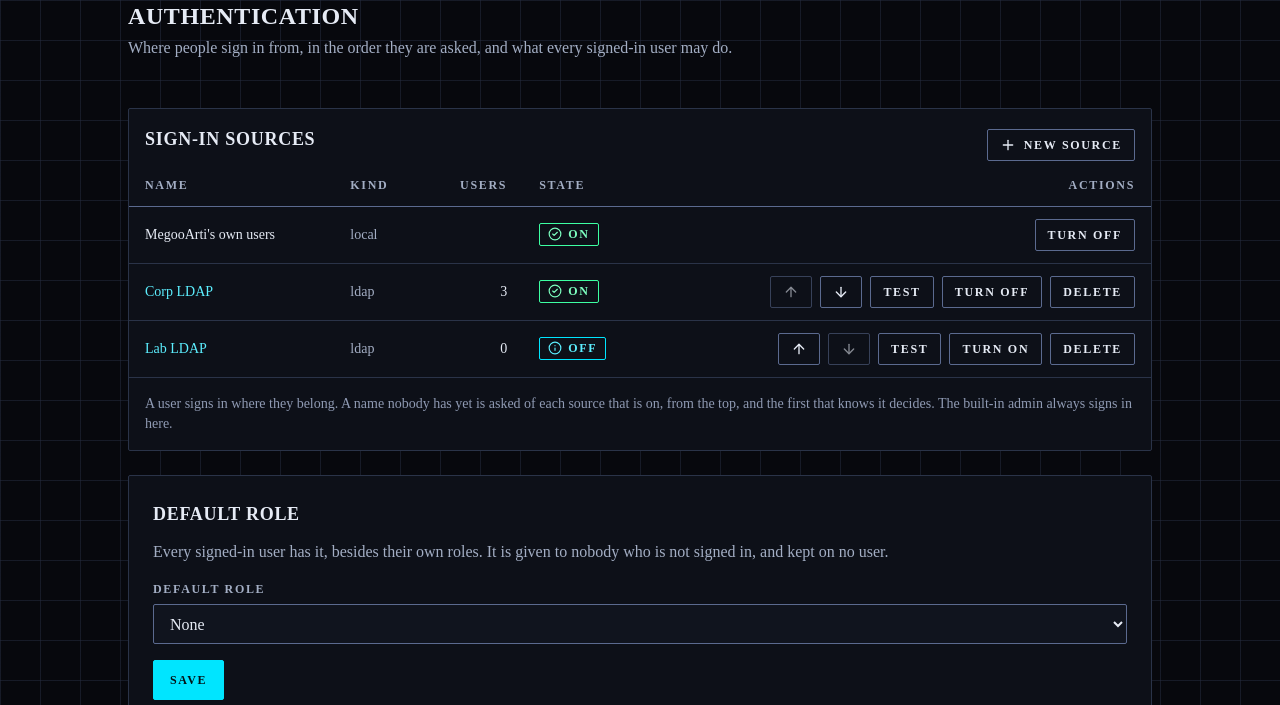
Test case: the sign-in sources (SEC-15) › say what the server refuses
The image size is (1280, 705).
Click the button named "Move Lab LDAP up" at point(799, 349), box [778, 333, 820, 365]
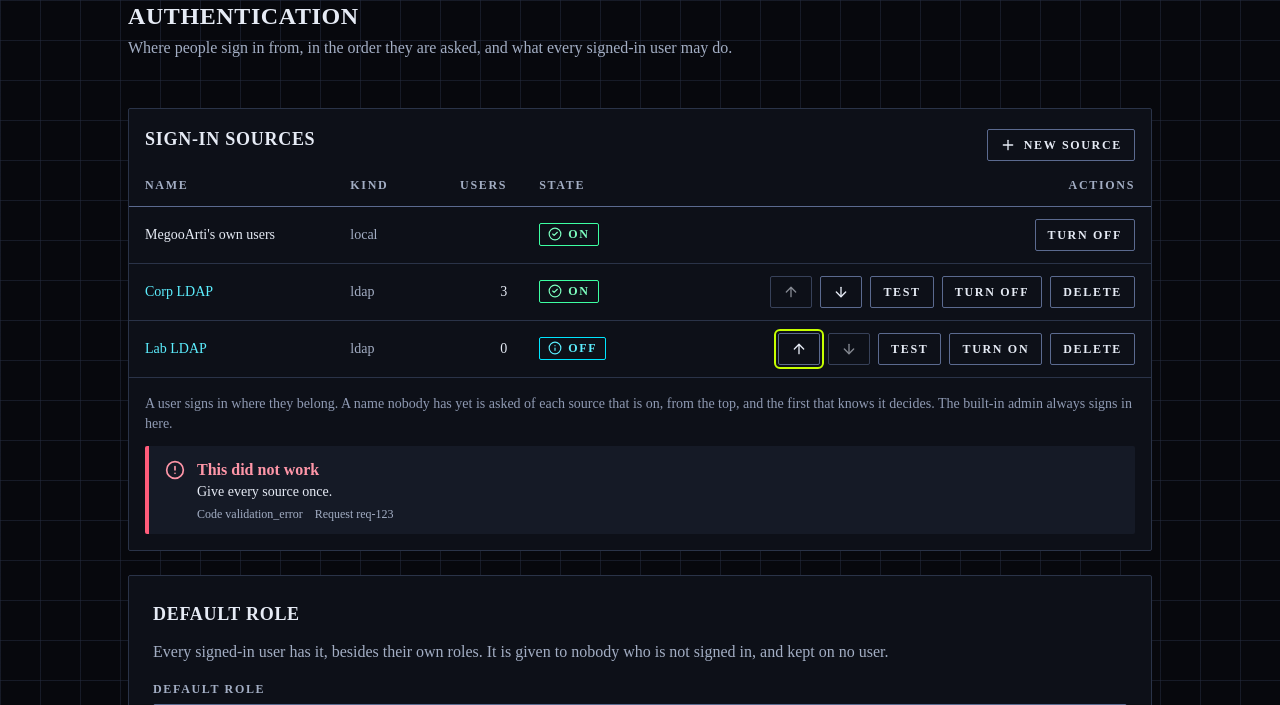
Expected: the text "Give every source once." is shown, [197, 484, 332, 499]
